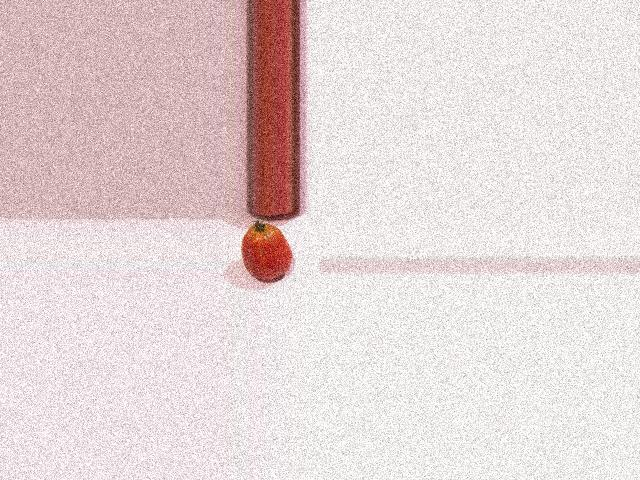tomato: (242, 223, 292, 279)
